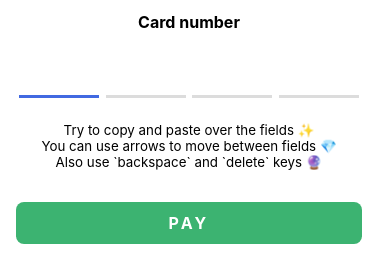
<Checkout /> › Should render buttons disabled if input is not a number
The width and height of the screenshot is (379, 261).
In the 1st field: (59, 75) x1=19 y1=51 x2=99 y2=98, type "asdfasdfasdfasdf"
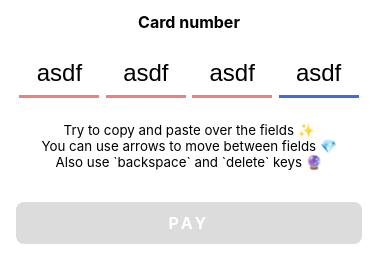
Expected: the button is disabled, x1=16 y1=202 x2=362 y2=244
